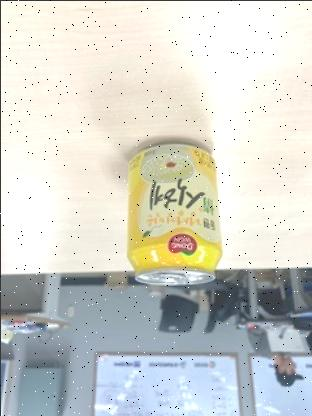Can: (121, 137, 225, 289)
